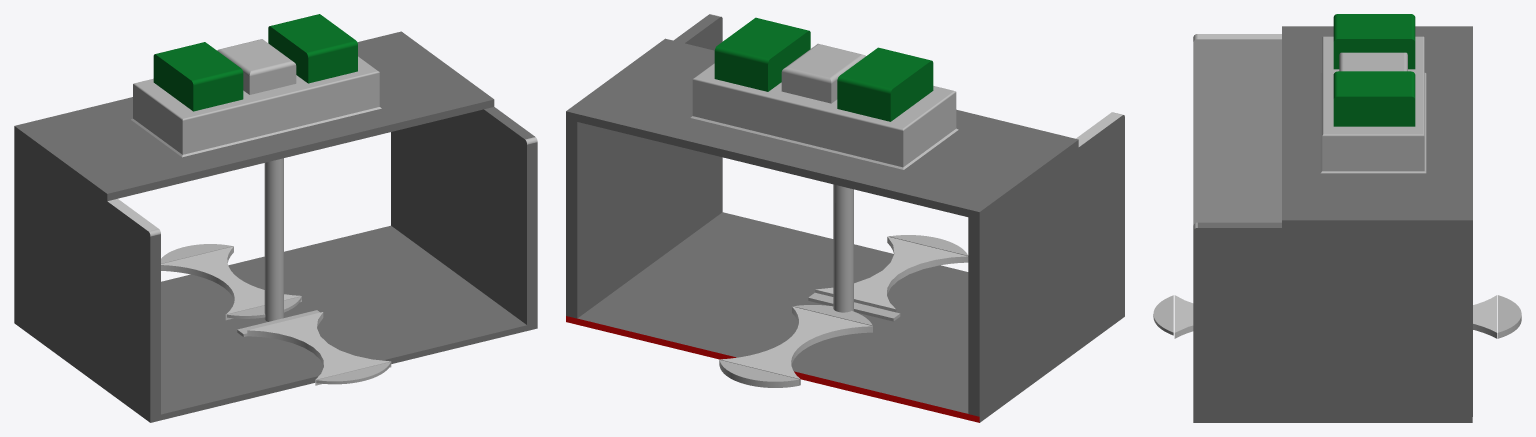
The model's file is 分卷机(1).FBX.
3 renders of one model, left to right at view 1: azimuth 30°, elevation 25°; view 2: azimuth 150°, elevation 25°; view 3: azimuth 270°, elevation 25°, orthographic. The views are drawn at different scales.
Parts seen in each view (by area): view 1: *SOL1, *SOL3, *SOL2, *SOL4, *SOL7, *SOL5, *SOL6; view 2: *SOL1, *SOL4, *SOL2, *SOL3, *SOL5, *SOL7, *SOL6; view 3: *SOL1, *SOL2, *SOL4, *SOL5, *SOL7.
Boxes of the visible parts, x1=… form: *SOL1: x1=14, y1=14, x2=537, y2=422; *SOL3: x1=264, y1=158, x2=283, y2=321; *SOL2: x1=217, y1=39, x2=296, y2=94; *SOL4: x1=161, y1=246, x2=301, y2=320; *SOL7: x1=316, y1=362, x2=390, y2=384; *SOL5: x1=161, y1=244, x2=233, y2=263; *SOL6: x1=227, y1=296, x2=301, y2=318; *SOL1: x1=566, y1=14, x2=1124, y2=422; *SOL4: x1=719, y1=306, x2=872, y2=385; *SOL2: x1=781, y1=43, x2=865, y2=103; *SOL3: x1=833, y1=184, x2=853, y2=312; *SOL5: x1=719, y1=360, x2=799, y2=387; *SOL7: x1=888, y1=235, x2=968, y2=255; *SOL6: x1=793, y1=305, x2=872, y2=325; *SOL1: x1=1174, y1=14, x2=1472, y2=422; *SOL2: x1=1339, y1=52, x2=1407, y2=71; *SOL4: x1=1473, y1=295, x2=1497, y2=338; *SOL5: x1=1498, y1=295, x2=1521, y2=338; *SOL7: x1=1153, y1=295, x2=1173, y2=335.
Size of the model in its own units: 21.65 by 14.09 by 17.36.
